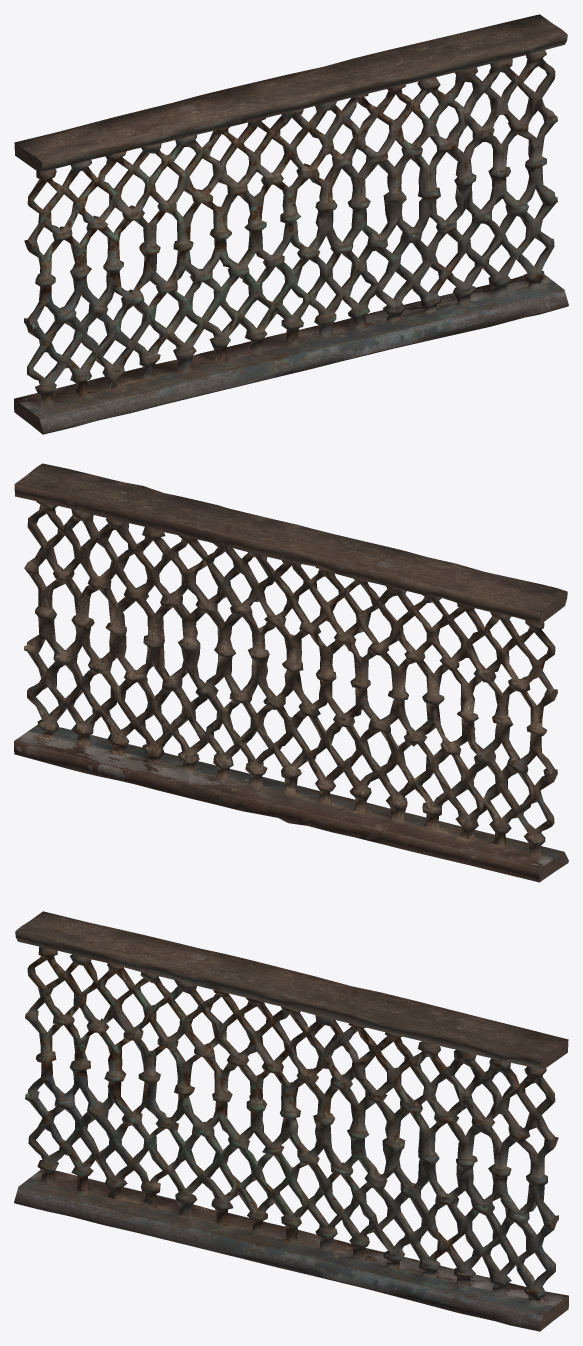
The picture shows the model from 3 angles, top to bottom: view 1: azimuth 30°, elevation 25°; view 2: azimuth 150°, elevation 25°; view 3: azimuth 330°, elevation 25°; orthographic projection.
Parts seen in each view (by area): view 1: xeoocabdw_LOD0_TIER2_000; view 2: xeoocabdw_LOD0_TIER2_000; view 3: xeoocabdw_LOD0_TIER2_000.
Boxes of the visible parts, box(x1,y1,x2,y2) form: xeoocabdw_LOD0_TIER2_000: box(14, 14, 568, 434); xeoocabdw_LOD0_TIER2_000: box(14, 463, 568, 882); xeoocabdw_LOD0_TIER2_000: box(14, 911, 568, 1331).
Size of the model in its own units: 0.6 by 0.2993 by 0.0605.
1 material, 1 textured.
